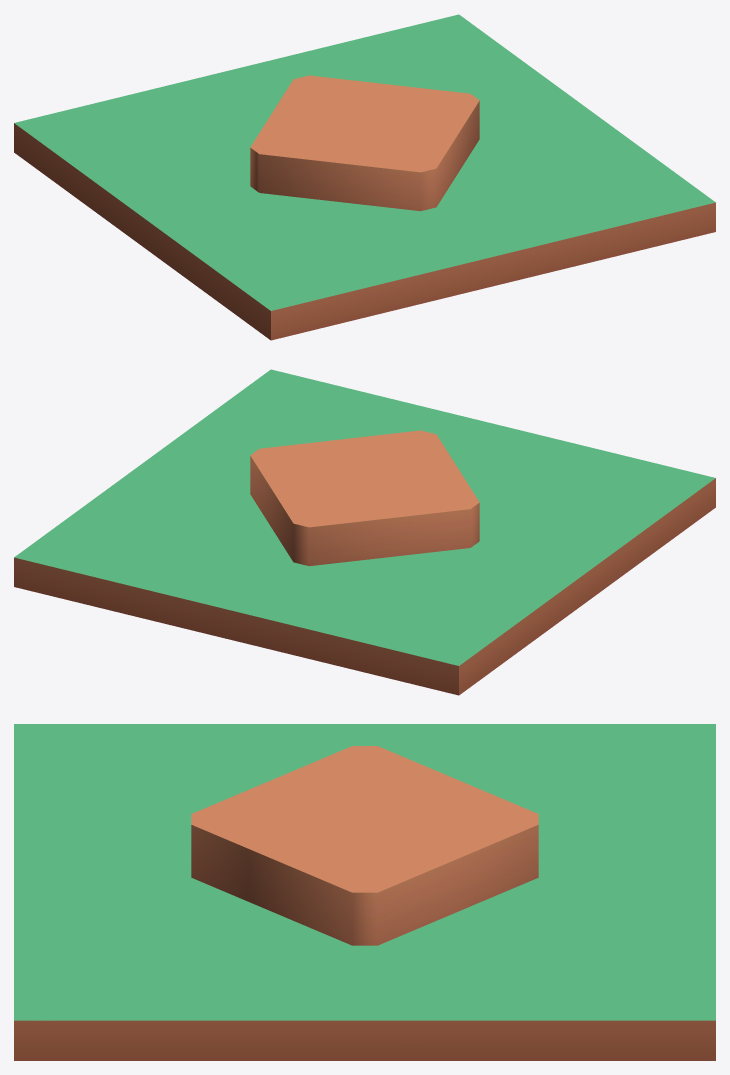
Rendered from obstacle-diamond.glb.
The picture shows the model from 3 angles, top to bottom: view 1: azimuth 30°, elevation 25°; view 2: azimuth 150°, elevation 25°; view 3: azimuth 270°, elevation 25°; orthographic projection. The views are drawn at different scales.
Visible parts, largest first — view 1: obstacle-diamond; view 2: obstacle-diamond; view 3: obstacle-diamond.
Boxes of the visible parts, <box> form: obstacle-diamond: <box>14,14,715,340</box>; obstacle-diamond: <box>14,369,715,695</box>; obstacle-diamond: <box>14,724,715,1060</box>.
Bounding box in the file's own units: 0.9999 × 0.1466 × 0.9999.
1 material, 1 textured.
